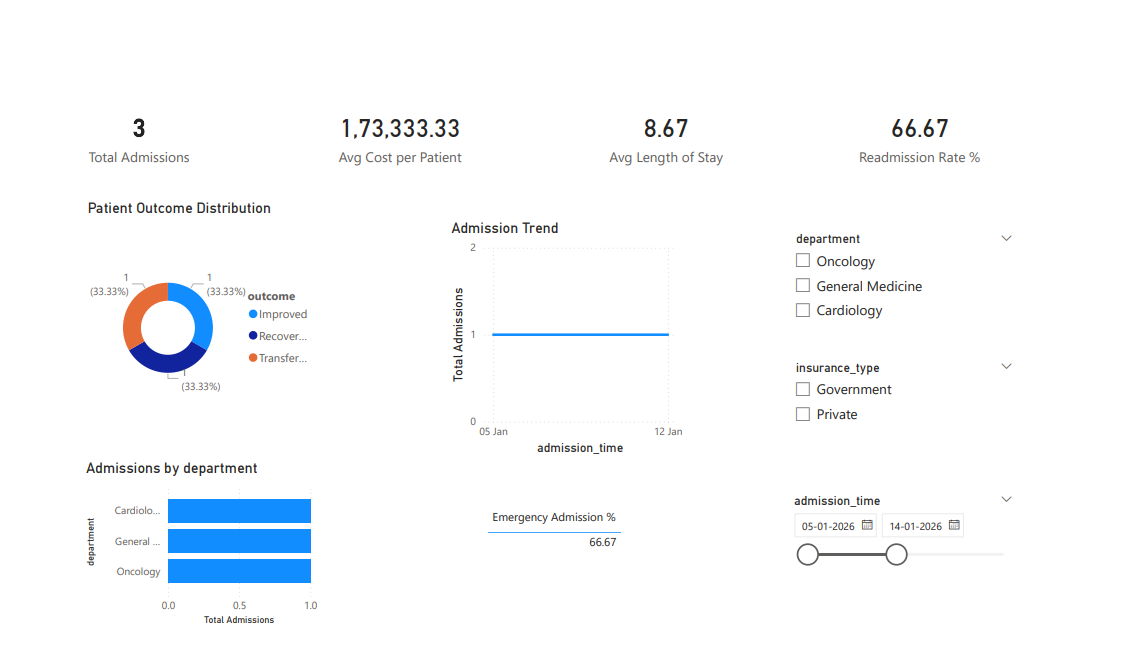

The page's visual inventory and layout, read from the dashboard file:
{"tool":"powerbi","page":{"name":"Executive","canvas":[1280,720],"ordinal":0},"visuals":[{"type":"card","fields":{"Values":["hospital_analytics admissions.Total Admissions"]},"box":[0,0,280,280],"z":0},{"type":"card","fields":{"Values":["hospital_analytics admissions.Avg Length of Stay"]},"box":[616.7,0,278.3,280],"z":1},{"type":"card","fields":{"Values":["hospital_analytics outcomes.Readmission Rate %"]},"box":[913.3,65,278.3,150],"z":2},{"type":"card","fields":{"Values":["hospital_analytics billing.Avg Cost per Patient"]},"box":[305,0,280,280],"z":3},{"type":"lineChart","title":"Admission Trend","fields":{"Y":["hospital_analytics admissions.Total Admissions"],"Category":["hospital_analytics admissions.admission_time"]},"box":[500,238.3,280,280],"z":4},{"type":"clusteredBarChart","title":"Admissions by department","fields":{"Y":["hospital_analytics admissions.Total Admissions"],"Category":["hospital_analytics admissions.department"]},"box":[73.3,518.3,280,198.3],"z":5},{"type":"donutChart","title":"Patient Outcome Distribution","fields":{"Category":["hospital_analytics outcomes.outcome"],"Y":["hospital_analytics admissions.Total Admissions"]},"box":[75,215,278.3,280],"z":6},{"type":"slicer","fields":{"Values":["hospital_analytics admissions.department"]},"box":[895,248.3,278.3,130],"z":7},{"type":"slicer","fields":{"Values":["hospital_analytics patients.insurance_type"]},"box":[895,398.3,278.3,121.7],"z":8},{"type":"slicer","fields":{"Values":["hospital_analytics admissions.admission_time"]},"box":[893.3,553.3,280,166.7],"z":9},{"type":"tableEx","fields":{"Values":["hospital_analytics admissions.Emergency Admission %"]},"box":[541.7,570,196.7,150],"z":10}]}

Visuals, with their boxes in screenshot pixels (x1, y1, x2, y2), scaled from the page's 1280x720 canvas onto the 1130x653 screenshot:
card - hospital_analytics admissions.Total Admissions: 0 0 247 254
card - hospital_analytics admissions.Avg Length of Stay: 544 0 790 254
card - hospital_analytics outcomes.Readmission Rate %: 806 59 1052 195
card - hospital_analytics billing.Avg Cost per Patient: 269 0 516 254
"Admission Trend" lineChart: 441 216 689 470
"Admissions by department" clusteredBarChart: 65 470 312 650
"Patient Outcome Distribution" donutChart: 66 195 312 449
slicer - hospital_analytics admissions.department: 790 225 1036 343
slicer - hospital_analytics patients.insurance_type: 790 361 1036 472
slicer - hospital_analytics admissions.admission_time: 789 502 1036 652
tableEx - hospital_analytics admissions.Emergency Admission %: 478 517 652 652
